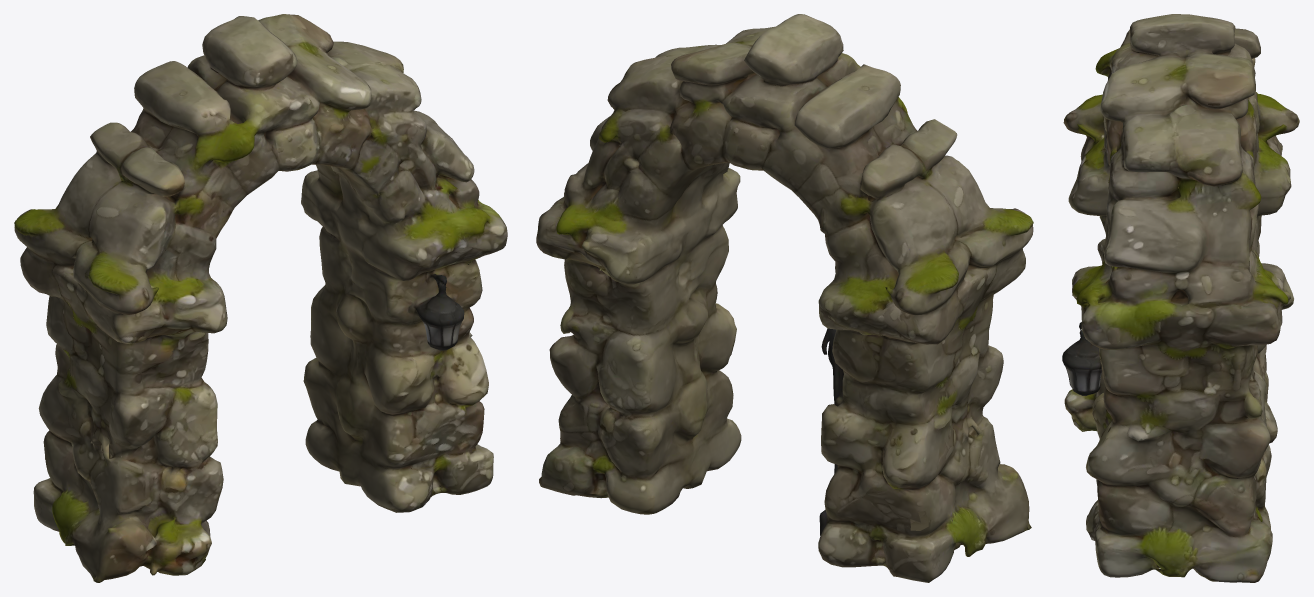
The model's file is gate_arch_tripo.glb.
3 renders of one model, left to right at view 1: azimuth 30°, elevation 25°; view 2: azimuth 150°, elevation 25°; view 3: azimuth 270°, elevation 25°, orthographic. The views are drawn at different scales.
Parts seen in each view (by area): view 1: stone archway 3d model; view 2: stone archway 3d model; view 3: stone archway 3d model.
Part boxes in pixels (bbox=[...]): stone archway 3d model: bbox=[14, 14, 507, 582]; stone archway 3d model: bbox=[536, 14, 1033, 582]; stone archway 3d model: bbox=[1062, 14, 1299, 582].
Size of the model in its own units: 0.8801 by 0.9779 by 0.4497.
1 material, 1 textured.
